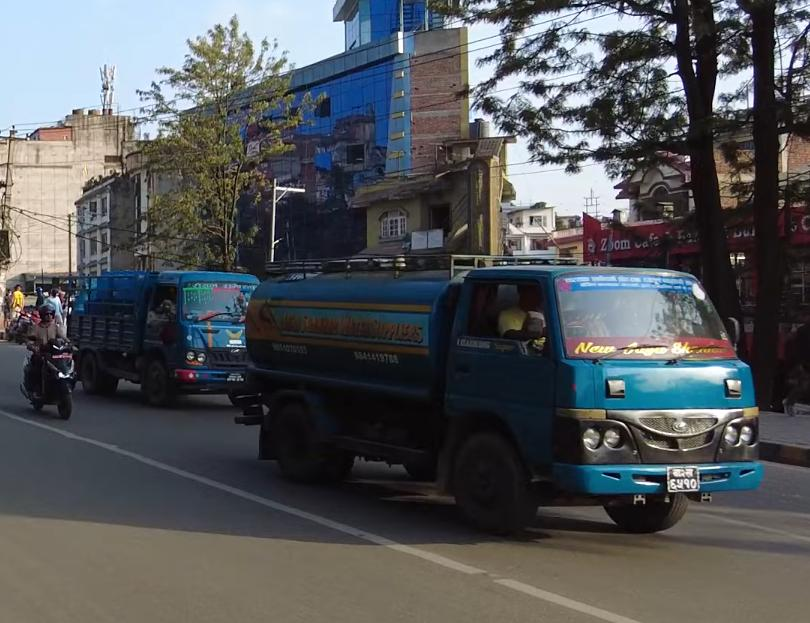mini_truck: (243, 250, 766, 542), (46, 254, 281, 423)
scooter: (13, 299, 83, 424)
